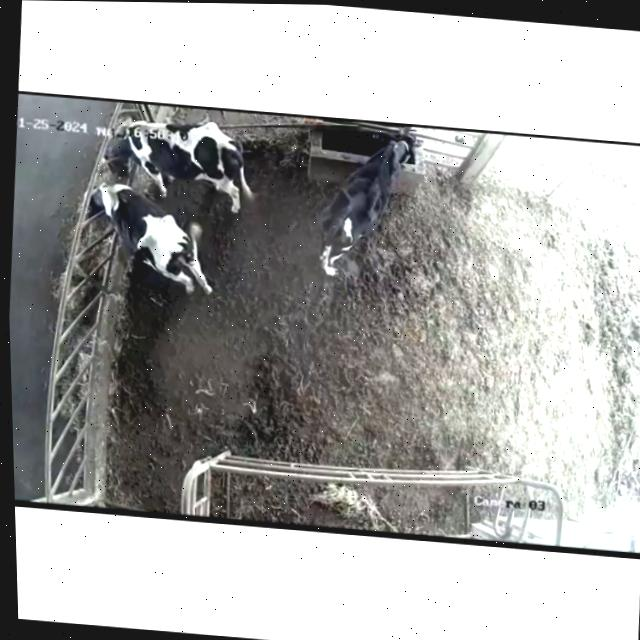drink: (359, 128, 430, 189)
eat: (81, 114, 165, 182), (71, 179, 142, 229)
